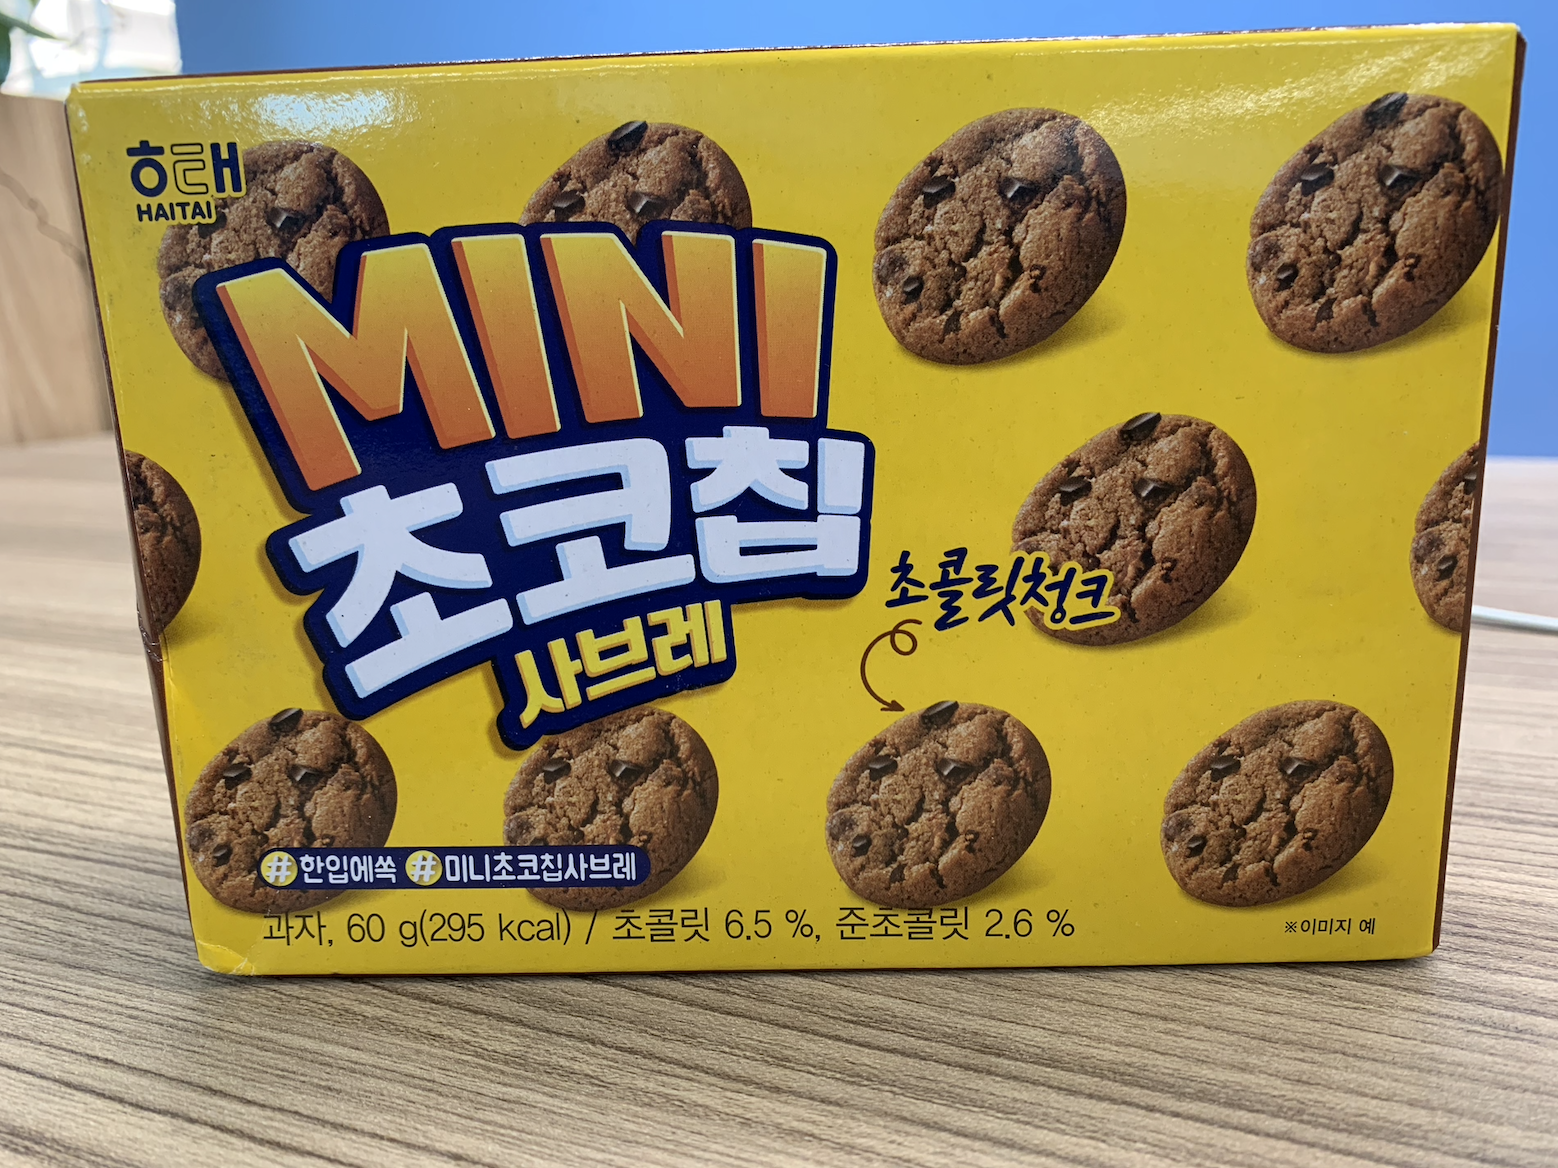cookies_1g-99g: (148, 85, 1419, 959)
